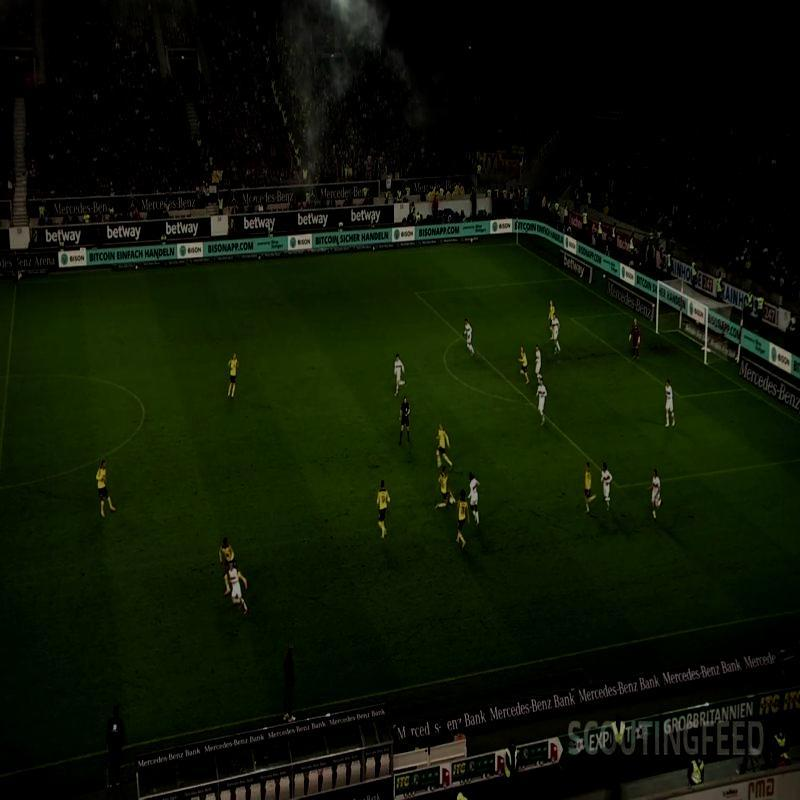1: (509, 236, 523, 249)
10: (456, 328, 470, 342)
11: (526, 396, 540, 410)
12: (614, 478, 628, 492)
13: (10, 274, 24, 288)
14: (2, 368, 16, 382)
15: (0, 475, 13, 489)
2: (563, 270, 577, 284)
3: (617, 304, 631, 318)
4: (738, 380, 752, 394)
7: (564, 310, 578, 324)
8: (674, 388, 689, 403)
9: (410, 285, 424, 299)
c: (138, 404, 152, 419)
